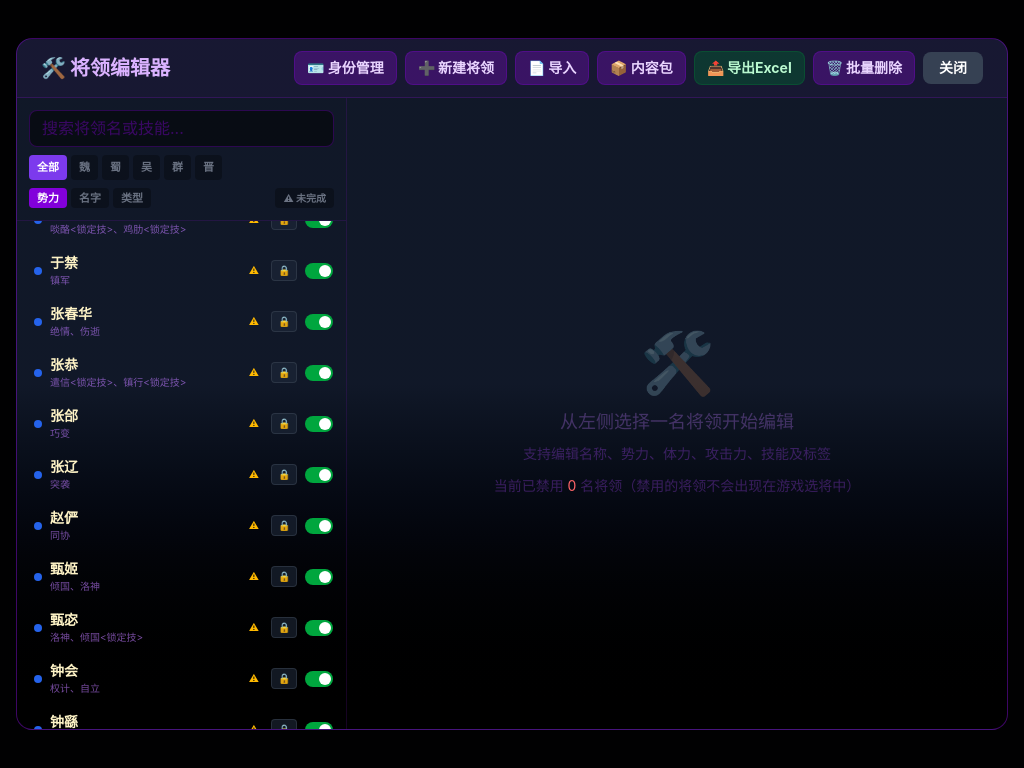
Test: 两段式流程：① 将领身份 → 确认 → ② 技能编辑 › 选中将领落在第 1 步：身份六格在场，技能那一屏不出现
This screenshot has width=1024, height=768.
(page scrolled)
Click the button "张辽 突袭 ⚠": (146, 475) left=26, top=451, right=267, bottom=498
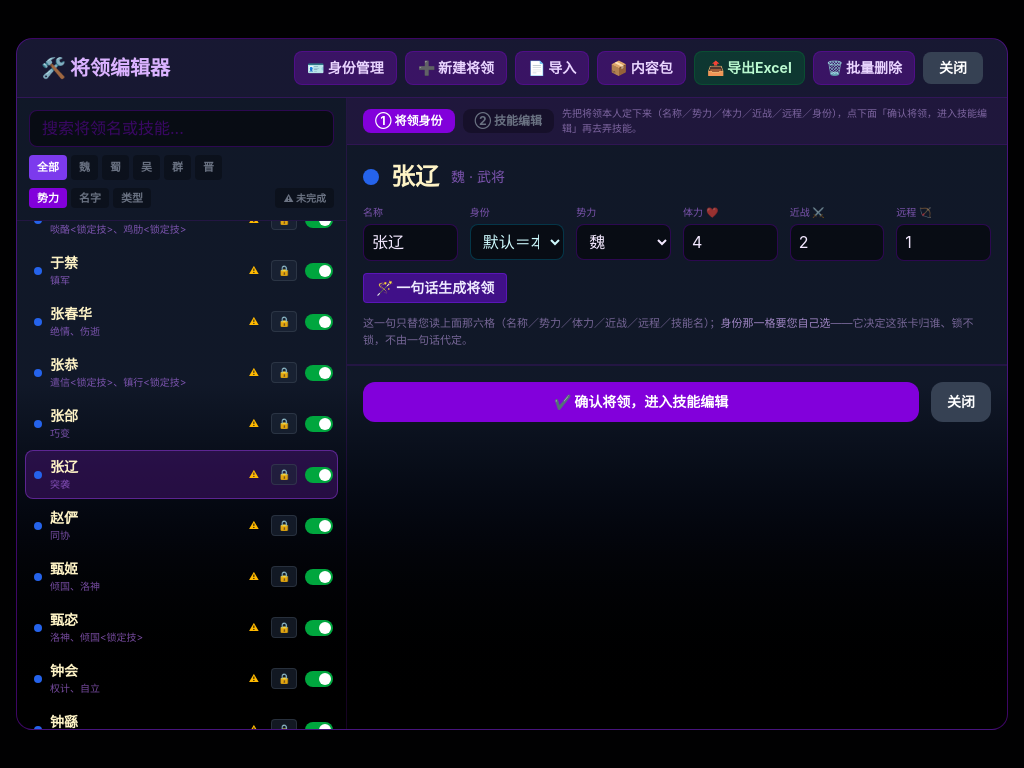
Expected: the button "① 将领身份" is shown, left=363, top=109, right=454, bottom=133
Expected: the button "② 技能编辑" is shown, left=462, top=109, right=554, bottom=133
Expected: the button "✔ 确认将领，进入技能编辑" is shown, left=363, top=382, right=919, bottom=422
